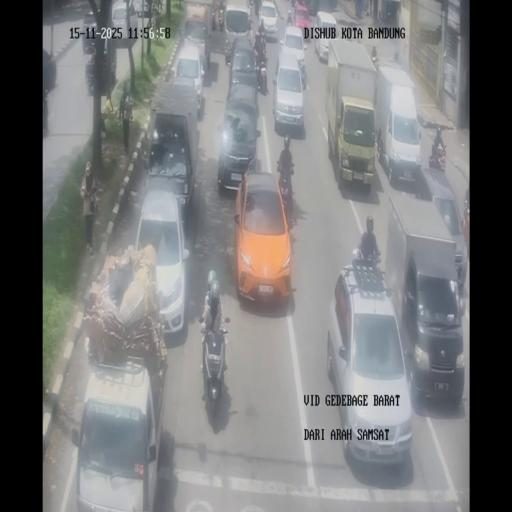3: (325, 40, 375, 190), (375, 65, 422, 186)
car: (327, 264, 413, 467), (74, 352, 164, 512), (134, 186, 190, 334), (233, 168, 292, 306), (416, 169, 468, 286), (216, 88, 261, 192), (144, 121, 193, 210), (171, 44, 206, 117), (84, 40, 116, 96), (279, 22, 307, 83), (228, 36, 258, 92), (110, 1, 139, 47), (314, 11, 337, 62), (258, 0, 278, 41), (81, 10, 98, 54), (293, 1, 312, 37), (42, 48, 56, 94), (135, 0, 152, 19)
truck: (198, 314, 232, 418), (277, 172, 294, 224), (254, 54, 268, 96), (429, 142, 446, 172), (254, 35, 266, 58), (218, 2, 226, 30), (464, 181, 470, 216), (100, 113, 107, 141), (371, 46, 379, 69), (248, 25, 256, 48), (151, 0, 163, 15), (254, 0, 262, 19), (248, 0, 255, 21), (211, 8, 217, 32), (378, 7, 385, 24), (286, 10, 293, 26), (290, 0, 296, 8)
